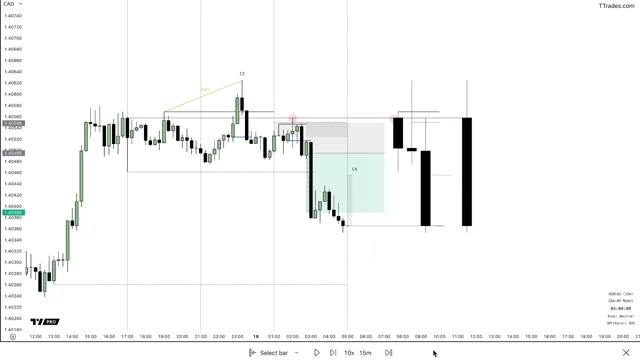protected_swing: (313, 155, 384, 213)
